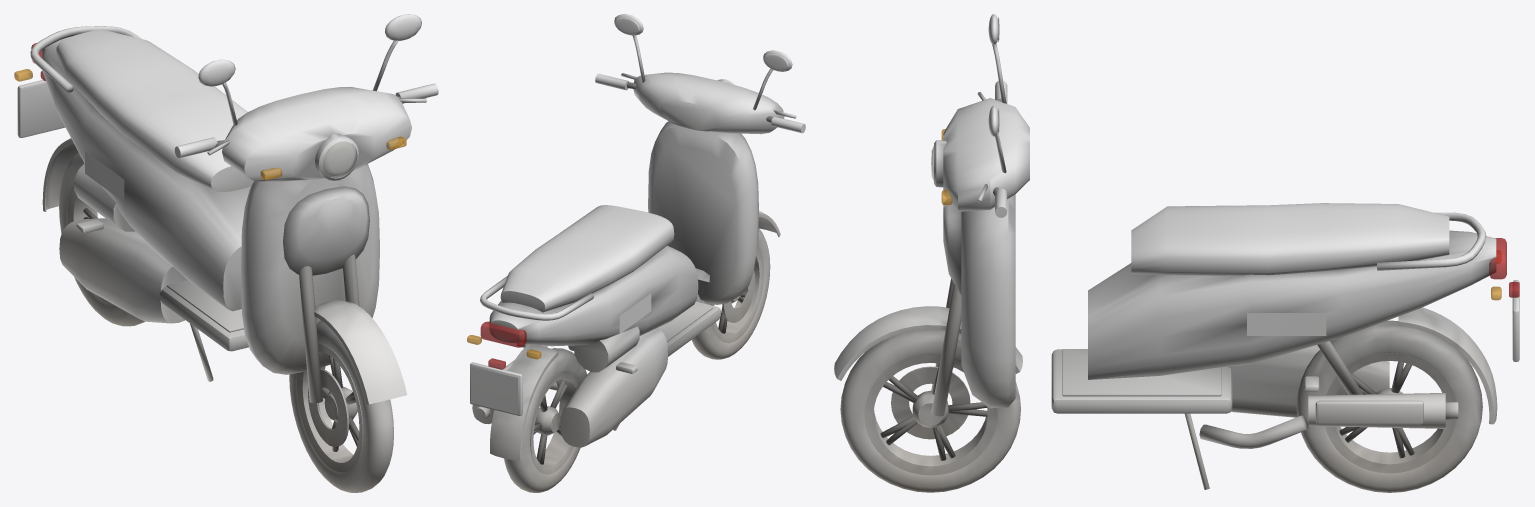
The model's file is scooter_auto.glb.
3 views of the same model, side by side, from view 1: azimuth 30°, elevation 25°; view 2: azimuth 150°, elevation 25°; view 3: azimuth 270°, elevation 25° (orthographic). The views are drawn at different scales.
Visible parts, largest first — view 1: scooter_auto_body, wheel_front, wheel_rear; view 2: scooter_auto_body, wheel_rear, wheel_front; view 3: scooter_auto_body, wheel_front, wheel_rear.
Part boxes in pixels (x1,y1,x2,y2): scooter_auto_body: (14,14,438,404); wheel_front: (289,320,393,492); wheel_rear: (59,152,144,326); scooter_auto_body: (467,14,805,460); wheel_rear: (504,348,586,492); wheel_front: (691,228,770,359); scooter_auto_body: (834,14,1519,489); wheel_front: (840,329,1020,492); wheel_rear: (1296,320,1482,492).
Size of what is drawn, in the model's own units: 0.83 by 1.31 by 1.9.
